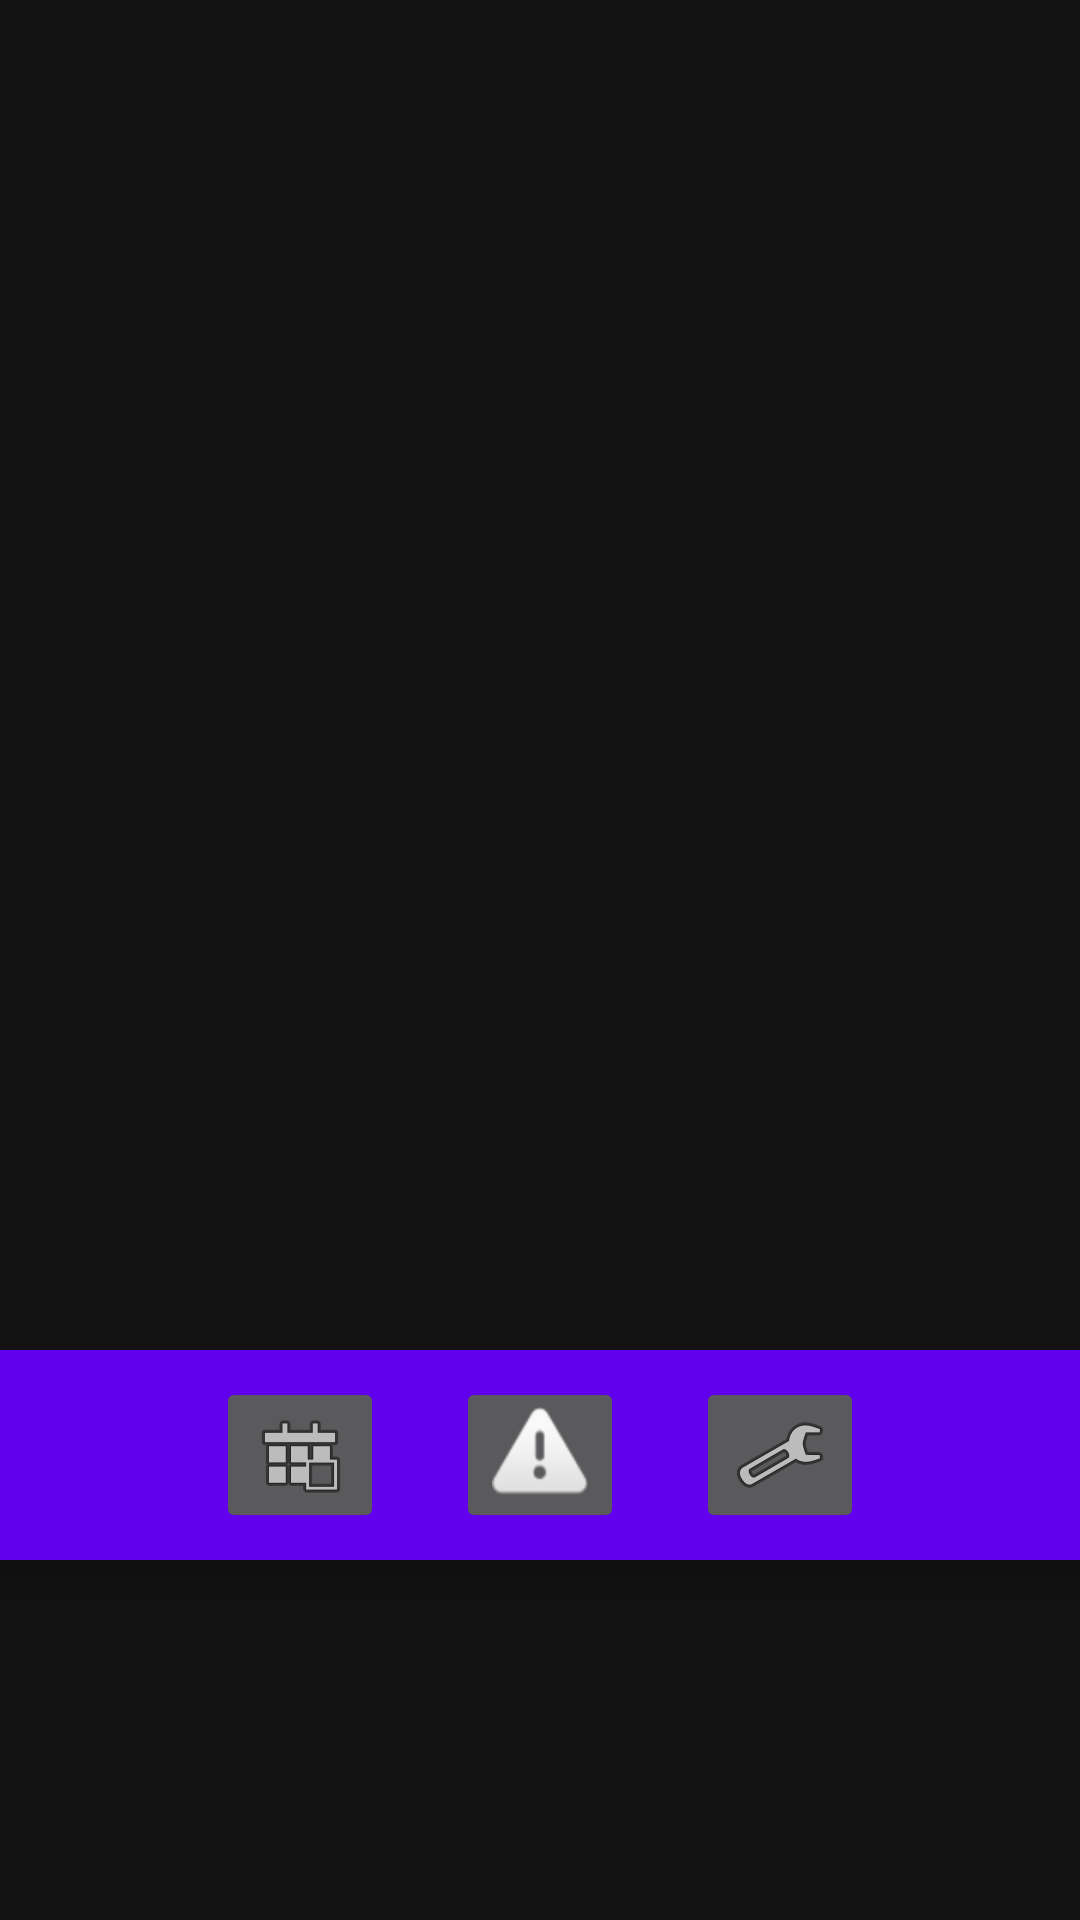

Where to tap for icons on this 1080*1920 app screen, as [x,y]:
alert: [540,1455]
manage: [780,1455]
today: [300,1455]
